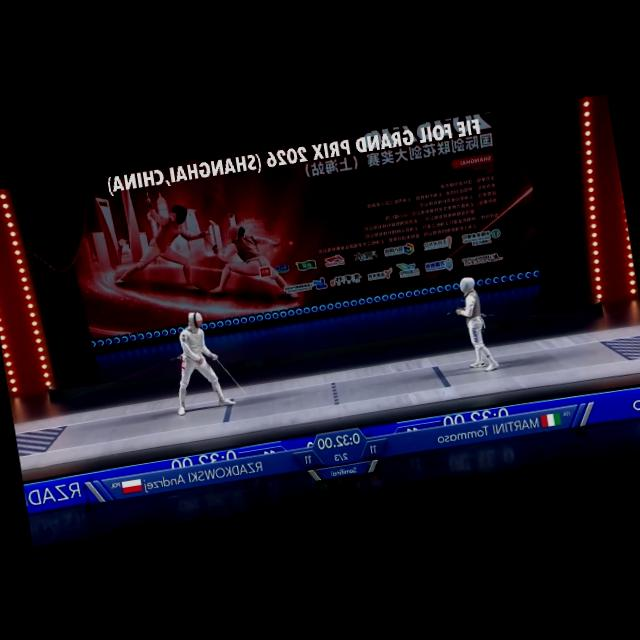blade: (210, 348, 247, 402), (442, 306, 463, 320)
